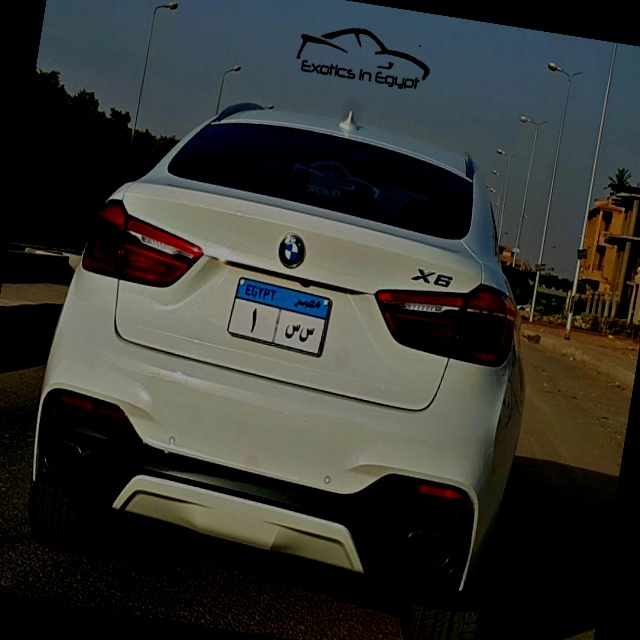License Plate: (223, 272, 334, 359)
